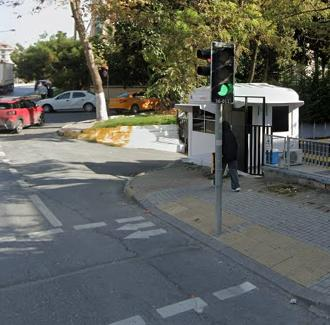greenlight: (211, 41, 232, 97)
